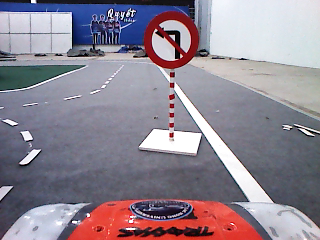ban: (143, 10, 200, 69)
